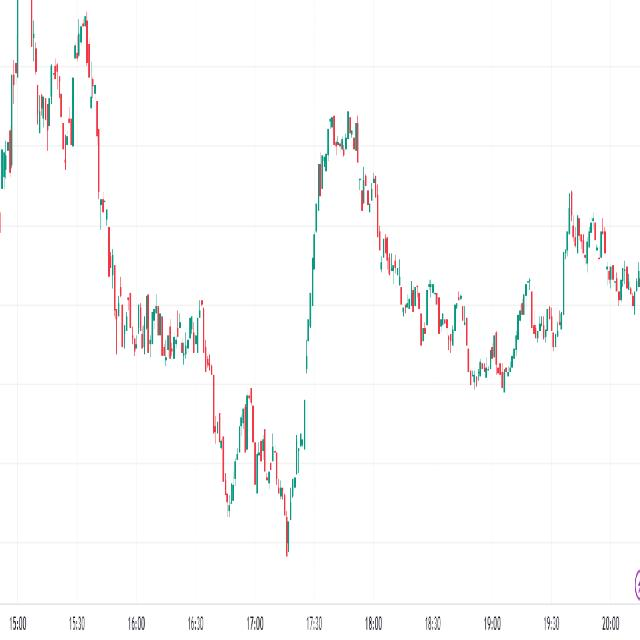Channel-down: (332, 73, 478, 452)
rectangle: (110, 280, 212, 381)
